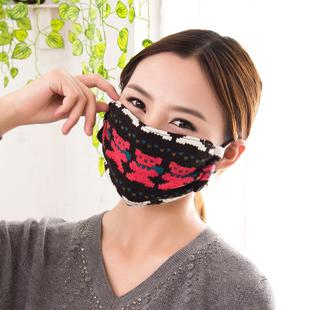OK: (102, 81, 219, 206)
